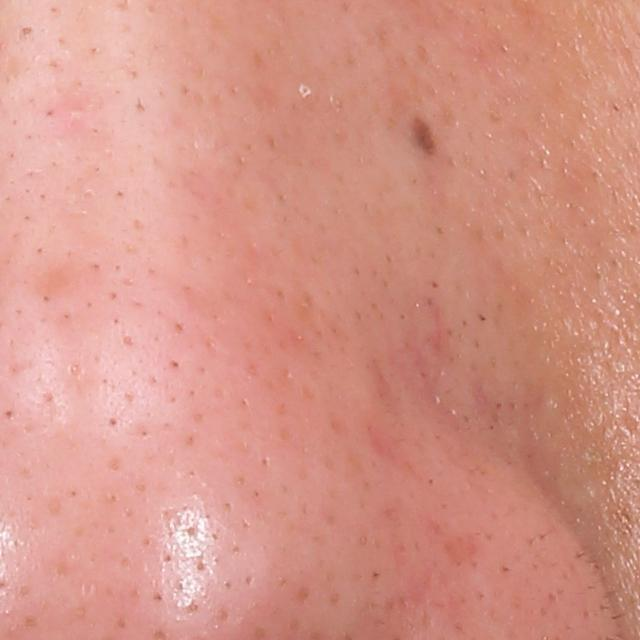nevus: (404, 110, 442, 172)
